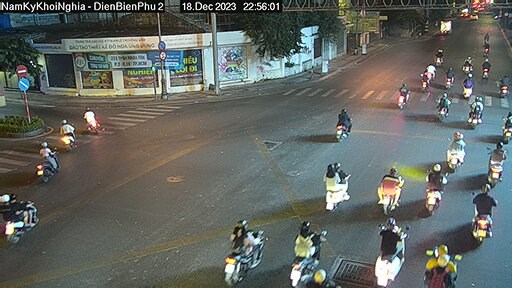motorbike: (219, 228, 267, 281), (291, 231, 330, 281), (4, 198, 43, 247), (314, 162, 354, 209), (377, 226, 414, 276), (416, 164, 447, 213), (380, 165, 407, 216), (32, 140, 63, 183), (473, 182, 494, 236), (485, 138, 511, 181), (446, 131, 470, 165), (394, 80, 416, 109), (432, 94, 454, 123), (334, 108, 354, 139), (466, 99, 484, 128), (457, 75, 478, 98), (60, 117, 76, 147), (82, 109, 101, 134), (417, 69, 431, 91), (444, 66, 453, 86)
